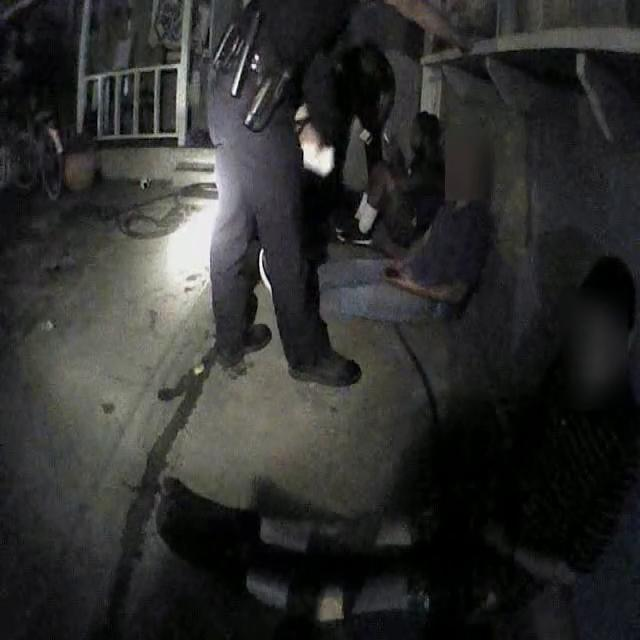gun: (233, 32, 301, 146)
